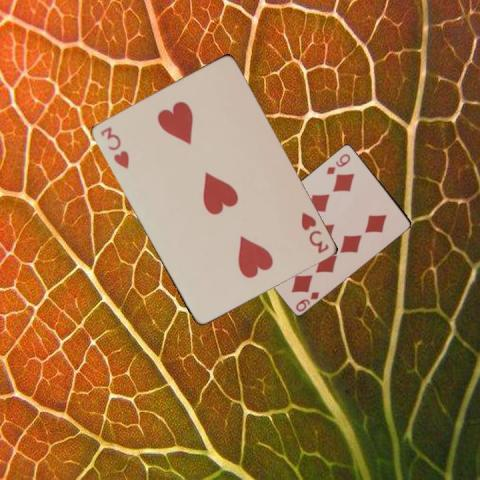3h: (96, 123, 130, 170), (297, 208, 330, 255)
9d: (323, 150, 352, 175), (292, 288, 320, 313)
